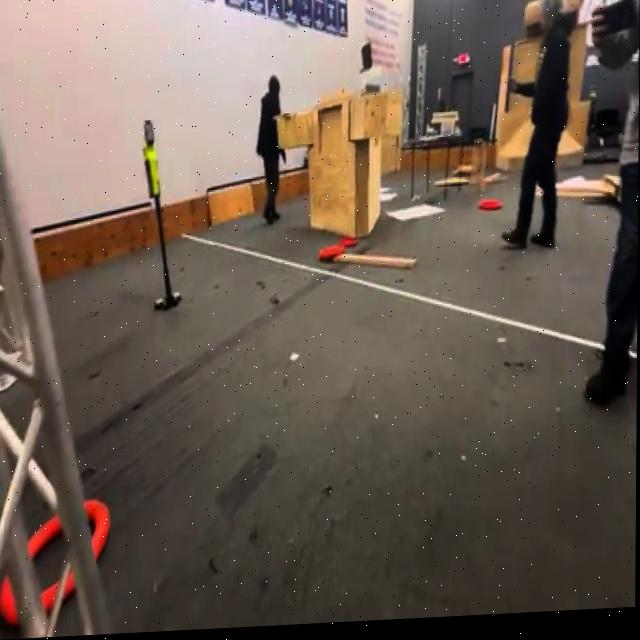note: (0, 489, 116, 631), (318, 244, 347, 269), (478, 201, 506, 217)
